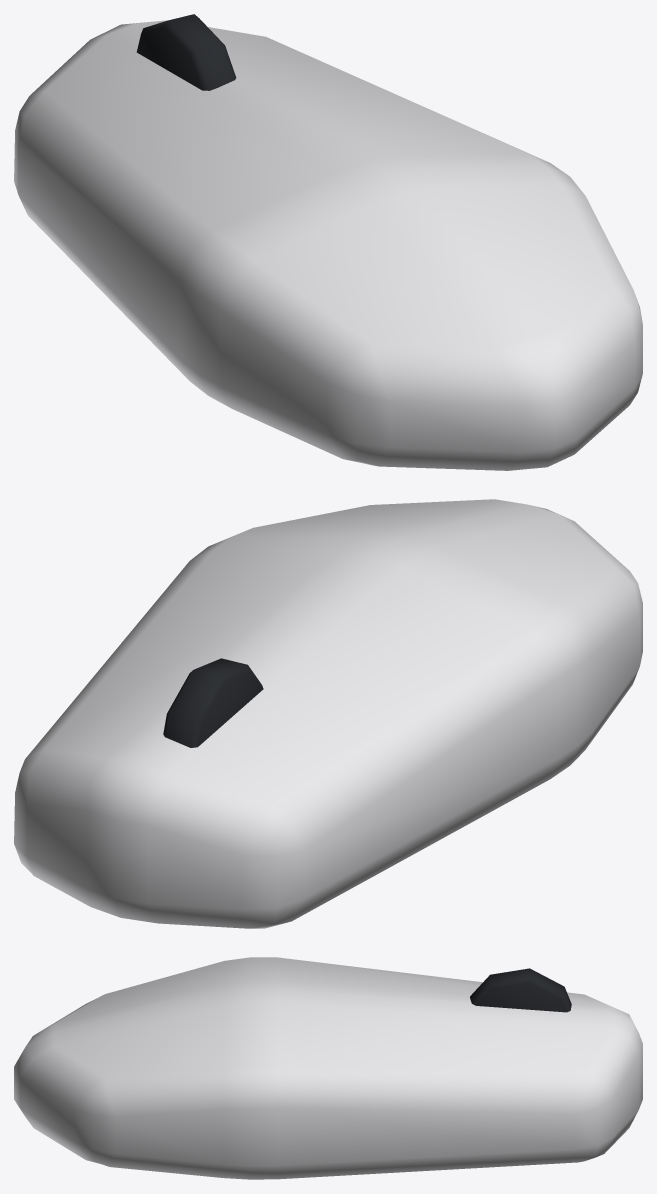
Rendered from mouse.fbx.
3 views of the same model, one above another, from view 1: azimuth 30°, elevation 25°; view 2: azimuth 150°, elevation 25°; view 3: azimuth 270°, elevation 25° (orthographic). The views are drawn at different scales.
Visible parts, largest first — view 1: Mouse; view 2: Mouse; view 3: Mouse.
Boxes of the visible parts, x1,y1,x2,y2 form: Mouse: (14,14,642,470); Mouse: (14,499,642,928); Mouse: (14,957,642,1179).
Bounding box in the file's own units: 24 × 12.29 × 47.97.
